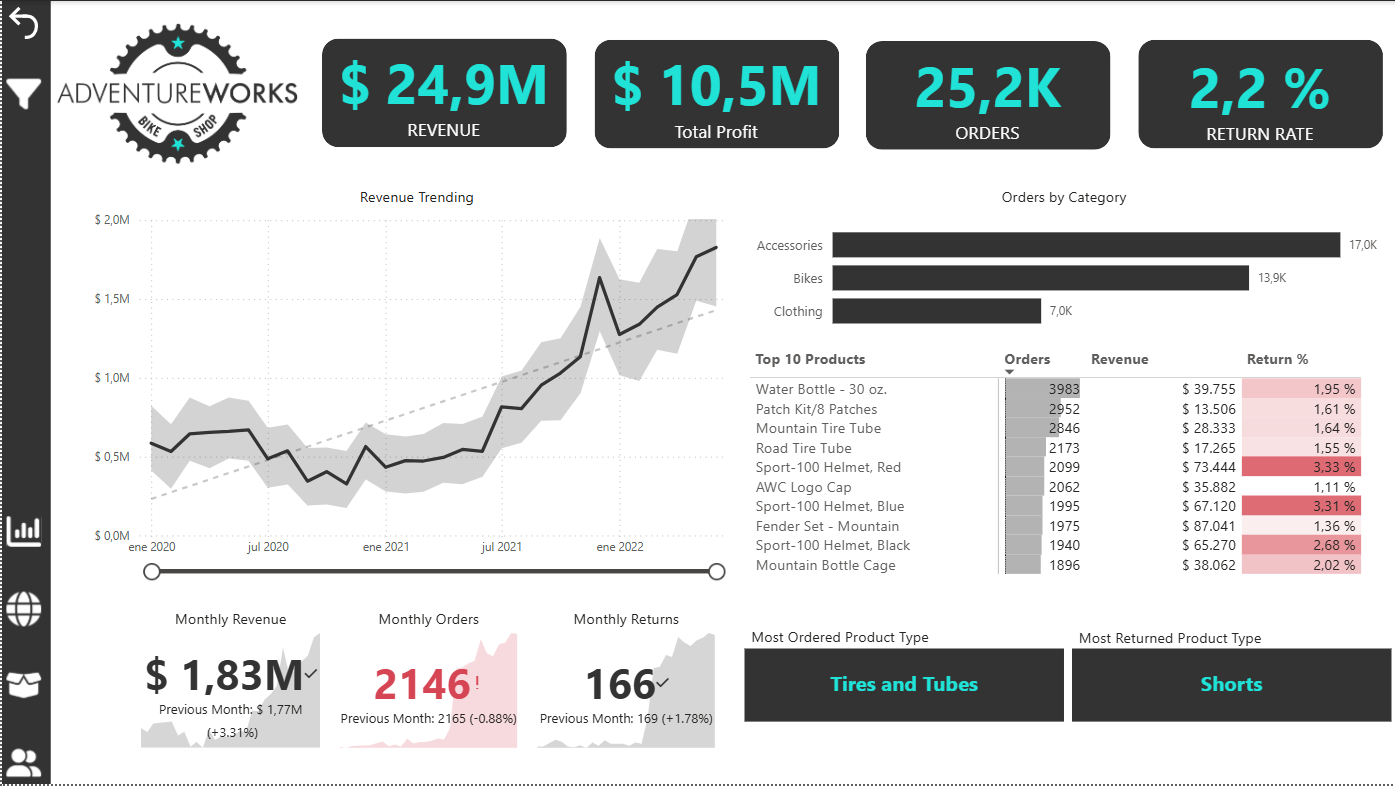

Layout of this report page (visuals, bound fields, positions):
{"tool":"powerbi","page":{"name":"Exec Dashboard","canvas":[1280,720],"ordinal":0},"visuals":[{"type":"image","title":"AW Logo","box":[21.8,0,280.3,170],"z":0},{"type":"card","fields":{"Values":["Measure Table.Total Revenue"]},"box":[278.1,28.8,256.5,111.5],"z":0,"group":"g2"},{"type":"group","id":"g1","title":"KPI Backgrounds","box":[294,34.5,974.9,102.2],"z":0,"group":"g3"},{"type":"shape","box":[294,34.5,225.1,99.9],"z":0,"group":"g1"},{"type":"actionButton","box":[0,467.5,45,40],"z":0,"group":"g4"},{"type":"shape","title":"Left Nav Background","box":[0,0,45,720.2],"z":1000},{"type":"group","id":"g2","title":"KPI Values","box":[278.1,28.8,978,115.1],"z":1000,"group":"g3"},{"type":"card","fields":{"Values":["Measure Table.Total Profit"]},"box":[528.6,30,256.5,111.5],"z":1000,"group":"g2"},{"type":"shape","box":[543.9,35.3,225.1,99.9],"z":1000,"group":"g1"},{"type":"actionButton","box":[0,609.2,45,40],"z":1000,"group":"g4"},{"type":"group","id":"g3","title":"KPIs","box":[278.1,28.8,990.7,115.1],"z":2000},{"type":"card","fields":{"Values":["Measure Table.Total Orders"]},"box":[777.9,31.2,256.5,111.5],"z":2000,"group":"g2"},{"type":"shape","box":[793.8,36.8,225.1,99.9],"z":2000,"group":"g1"},{"type":"actionButton","box":[0,680,45,40],"z":2000,"group":"g4"},{"type":"card","fields":{"Values":["Measure Table.Return Rate"]},"box":[1057.1,32.4,199,111.5],"z":3000,"group":"g2"},{"type":"shape","box":[1043.7,36,225.1,99.9],"z":3000,"group":"g1"},{"type":"lineChart","title":"Revenue Trending","fields":{"Y":["Measure Table.Total Revenue"],"Category":["Calendar Lookup.Start of Month"]},"box":[79.3,170,604.2,365.3],"z":3000},{"type":"actionButton","box":[0,538.3,45,40],"z":3000,"group":"g4"},{"type":"kpi","title":"Monthly Revenue","fields":{"Indicator":["Measure Table.Total Revenue"],"TrendLine":["Calendar Lookup.Start of Month"],"Goal":["Measure Table.Previous Month Revenue"]},"box":[123.1,557.8,174.6,133.2],"z":4000},{"type":"kpi","title":"Monthly Orders","fields":{"TrendLine":["Calendar Lookup.Start of Month"],"Indicator":["Measure Table.Total Orders"],"Goal":["Measure Table.Previous Month Orders"]},"box":[305.7,557.8,173.3,133.3],"z":5000},{"type":"kpi","title":"Monthly Returns","fields":{"TrendLine":["Calendar Lookup.Start of Month"],"Indicator":["Measure Table.Total Returns"],"Goal":["Measure Table.Previous Month Return"]},"box":[487,557.8,173.3,133.3],"z":6000},{"type":"barChart","title":"Orders by Category","fields":{"Category":["Product Categories Lookup.CategoryName"],"Y":["Measure Table.Total Orders"]},"box":[683.8,170,585,145],"z":7000},{"type":"pivotTable","fields":{"Rows":["Product Lookup.ProductName"],"Values":["Measure Table.Total Orders","Measure Table.Total Revenue","Measure Table.Return Rate"]},"box":[682.5,315,586.2,221.2],"z":8000},{"type":"card","fields":{"Values":["Min(Product Subcategories Lookup.SubcategoryName)"]},"box":[682.5,595,293.8,67.5],"z":9000},{"type":"textbox","box":[683.8,570,187.5,42.5],"z":10000},{"type":"card","fields":{"Values":["Min(Product Subcategories Lookup.SubcategoryName)"]},"box":[983.8,595,293.8,67.5],"z":11000},{"type":"textbox","box":[984.7,571,187.5,42.5],"z":12000},{"type":"actionButton","box":[0,0,45,40],"z":13000},{"type":"group","id":"g4","title":"Navigation Buttons","box":[0,467.5,45,252.5],"z":14000},{"type":"actionButton","box":[0,65,45,40],"z":15000}]}

Visuals, with their boxes on the page's 1280x720 design canvas (x1, y1, x2, y2). These are canvas units, not pixel positions in the 1395x786 screenshot, which may show the page scaled, cropped or inside an application window:
"AW Logo" image: [x1=22, y1=0, x2=302, y2=170]
card - Measure Table.Total Revenue: [x1=278, y1=29, x2=535, y2=140]
"KPI Backgrounds" group: [x1=294, y1=34, x2=1269, y2=137]
shape: [x1=294, y1=34, x2=519, y2=134]
actionButton: [x1=0, y1=468, x2=45, y2=508]
"Left Nav Background" shape: [x1=0, y1=0, x2=45, y2=720]
"KPI Values" group: [x1=278, y1=29, x2=1256, y2=144]
card - Measure Table.Total Profit: [x1=529, y1=30, x2=785, y2=142]
shape: [x1=544, y1=35, x2=769, y2=135]
actionButton: [x1=0, y1=609, x2=45, y2=649]
"KPIs" group: [x1=278, y1=29, x2=1269, y2=144]
card - Measure Table.Total Orders: [x1=778, y1=31, x2=1034, y2=143]
shape: [x1=794, y1=37, x2=1019, y2=137]
actionButton: [x1=0, y1=680, x2=45, y2=720]
card - Measure Table.Return Rate: [x1=1057, y1=32, x2=1256, y2=144]
shape: [x1=1044, y1=36, x2=1269, y2=136]
"Revenue Trending" lineChart: [x1=79, y1=170, x2=684, y2=535]
actionButton: [x1=0, y1=538, x2=45, y2=578]
"Monthly Revenue" kpi: [x1=123, y1=558, x2=298, y2=691]
"Monthly Orders" kpi: [x1=306, y1=558, x2=479, y2=691]
"Monthly Returns" kpi: [x1=487, y1=558, x2=660, y2=691]
"Orders by Category" barChart: [x1=684, y1=170, x2=1269, y2=315]
pivotTable - Product Lookup.ProductName x Measure Table.Total Orders: [x1=682, y1=315, x2=1269, y2=536]
card - Min(Product Subcategories Lookup.SubcategoryName): [x1=682, y1=595, x2=976, y2=662]
textbox: [x1=684, y1=570, x2=871, y2=612]
card - Min(Product Subcategories Lookup.SubcategoryName): [x1=984, y1=595, x2=1278, y2=662]
textbox: [x1=985, y1=571, x2=1172, y2=614]
actionButton: [x1=0, y1=0, x2=45, y2=40]
"Navigation Buttons" group: [x1=0, y1=468, x2=45, y2=720]
actionButton: [x1=0, y1=65, x2=45, y2=105]
